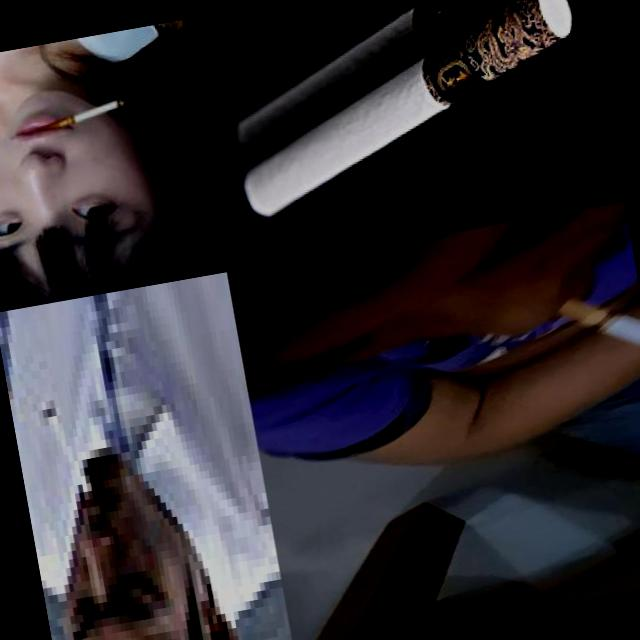cigarette: (213, 0, 598, 224), (213, 0, 585, 166), (555, 285, 640, 409), (32, 394, 100, 522), (36, 96, 130, 134)
